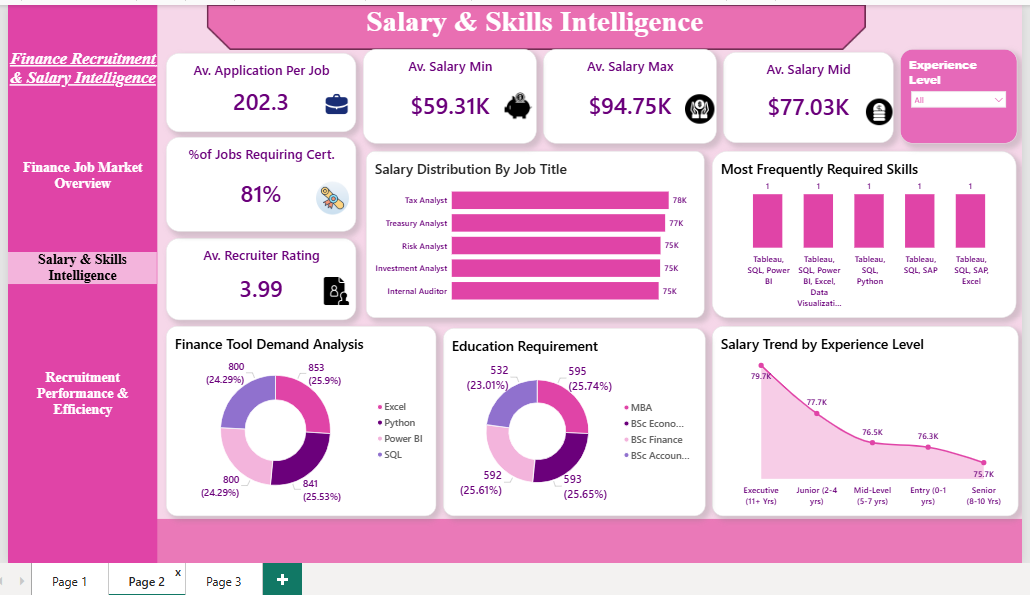

The page's visual inventory and layout, read from the dashboard file:
{"tool":"powerbi","page":{"name":"Page 2","canvas":[1962,1080],"ordinal":1},"visuals":[{"type":"card","title":"Av. Salary Mid","fields":{"Values":["Finance Dataset.Average Salary"]},"box":[1384,91.4,329.5,176.5],"z":0},{"type":"card","title":"Av. Recruiter Rating","fields":{"Values":["Finance Dataset.Av. Recruiter Rating"]},"box":[306.1,450.7,367.8,159.4],"z":1000},{"type":"card","title":"Av. Application Per Job","fields":{"Values":["Finance Dataset.Av.Application"]},"box":[306.1,93.5,367.8,153.1],"z":2000},{"type":"card","title":"Av. Salary Max","fields":{"Values":["Finance Dataset.Av.Salary Max"]},"box":[1035.4,85,335.9,182.8],"z":3000},{"type":"clusteredBarChart","title":" Salary Distribution By Job Title","fields":{"Category":["Finance Dataset.Job Title"],"Y":["Sum(Finance Dataset.Salary midpoint)"]},"box":[693.1,282.8,654.8,323.1],"z":4000},{"type":"areaChart","title":"Salary Trend by Experience Level","fields":{"Y":["Avg(Finance Dataset.Salary midpoint)"],"Category":["Finance Dataset.Experience Category"]},"box":[1362.8,620.8,593.1,367.8],"z":5000},{"type":"columnChart","title":"Most Frequently Required Skills","fields":{"Category":["Finance Dataset.Required Skills"],"Y":["CountNonNull(Finance Dataset.Job ID)"]},"box":[1362.8,282.8,588.9,323.1],"z":6000},{"type":"slicer","title":"Experience Level","fields":{"Values":["Finance Dataset.Experience Level"]},"box":[1726.3,85,227.5,182.8],"z":7000},{"type":"card","title":"%of Jobs Requiring Cert.","fields":{"Values":["Finance Dataset.%of Jobs Requiring Cert"]},"box":[306.1,255.1,367.8,182.8],"z":8000},{"type":"donutChart","title":" Education Requirement","fields":{"Category":["Finance Dataset.Education Requirement"],"Y":["CountNonNull(Finance Dataset.Job ID)"]},"box":[841.9,625,508.1,363.5],"z":9000},{"type":"donutChart","title":"Finance Tool Demand Analysis","fields":{"Category":["Finance Dataset (2).Required Skills"],"Y":["Sum(Finance Dataset (2).People Count)"]},"box":[306.1,620.8,523,367.8],"z":10000},{"type":"card","title":"Av. Salary Min","fields":{"Values":["Finance Dataset.Av.Salary Min"]},"box":[686.7,85,335.9,182.8],"z":11000},{"type":"shape","box":[0,0,289.1,1080],"z":12000},{"type":"textbox","box":[0,85,289.1,95.7],"z":13000},{"type":"textbox","box":[431.6,0,1175.7,85],"z":14000},{"type":"image","box":[614.4,159.4,44.6,65.9],"z":15000},{"type":"image","box":[958.8,159.4,59.5,72.3],"z":16000},{"type":"image","box":[1309.6,159.4,57.4,85],"z":17000},{"type":"image","box":[1658.3,168,55.3,76.5],"z":18000},{"type":"image","box":[595.3,340.2,63.8,65.9],"z":19000},{"type":"image","box":[595.3,523,78.7,61.7],"z":20000},{"type":"actionButton","box":[0,255.1,289.1,91.4],"z":21000},{"type":"actionButton","box":[0,486.9,289.1,82.9],"z":22000},{"type":"actionButton","box":[0,742,289.1,110.6],"z":23000}]}

Visuals, with their boxes on the page's 1962x1080 design canvas (x1, y1, x2, y2). These are canvas units, not pixel positions in the 1030x595 screenshot, which may show the page scaled, cropped or inside an application window:
"Av. Salary Mid" card: 1384, 91, 1714, 268
"Av. Recruiter Rating" card: 306, 451, 674, 610
"Av. Application Per Job" card: 306, 94, 674, 247
"Av. Salary Max" card: 1035, 85, 1371, 268
" Salary Distribution By Job Title" clusteredBarChart: 693, 283, 1348, 606
"Salary Trend by Experience Level" areaChart: 1363, 621, 1956, 989
"Most Frequently Required Skills" columnChart: 1363, 283, 1952, 606
"Experience Level" slicer: 1726, 85, 1954, 268
"%of Jobs Requiring Cert." card: 306, 255, 674, 438
" Education Requirement" donutChart: 842, 625, 1350, 988
"Finance Tool Demand Analysis" donutChart: 306, 621, 829, 989
"Av. Salary Min" card: 687, 85, 1023, 268
shape: 0, 0, 289, 1080
textbox: 0, 85, 289, 181
textbox: 432, 0, 1607, 85
image: 614, 159, 659, 225
image: 959, 159, 1018, 232
image: 1310, 159, 1367, 244
image: 1658, 168, 1714, 244
image: 595, 340, 659, 406
image: 595, 523, 674, 585
actionButton: 0, 255, 289, 346
actionButton: 0, 487, 289, 570
actionButton: 0, 742, 289, 853
